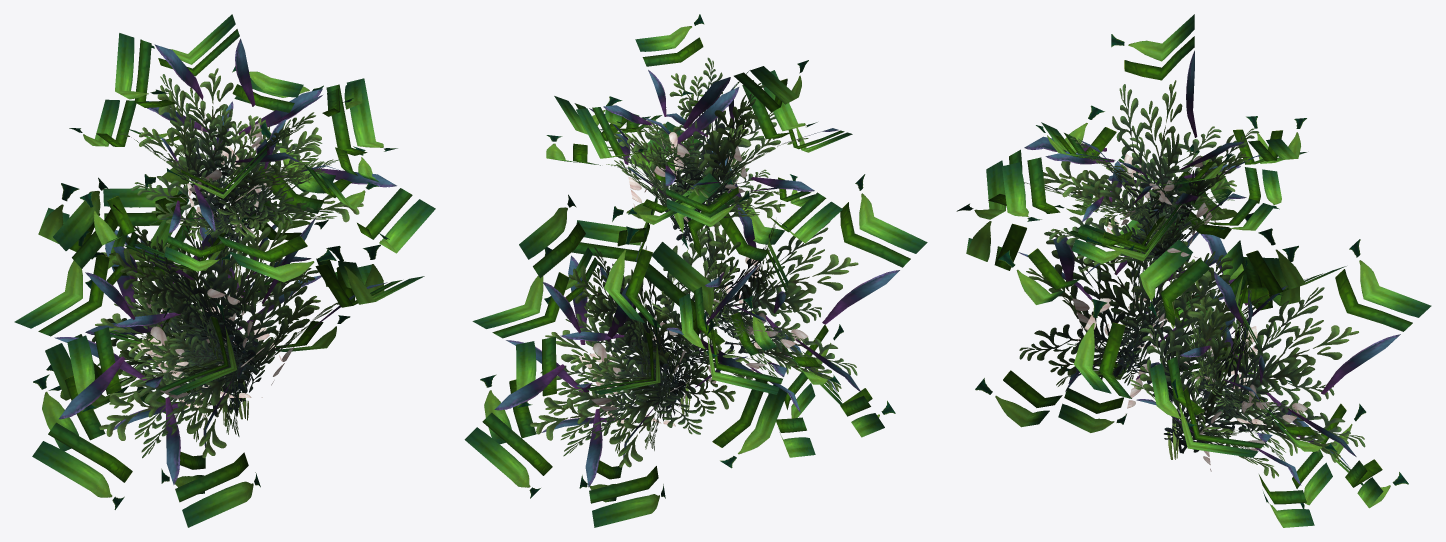
Rendered from S_Tree_Green050_A1.FBX.
The picture shows the model from 3 angles, left to right: view 1: azimuth 30°, elevation 25°; view 2: azimuth 150°, elevation 25°; view 3: azimuth 270°, elevation 25°; orthographic projection. The views are drawn at different scales.
Parts seen in each view (by area): view 1: S_Tree_Green050_A1; view 2: S_Tree_Green050_A1; view 3: S_Tree_Green050_A1.
Part boxes in pixels (bbox=[...]): S_Tree_Green050_A1: bbox=[14, 14, 435, 527]; S_Tree_Green050_A1: bbox=[464, 14, 927, 527]; S_Tree_Green050_A1: bbox=[956, 14, 1431, 527].
Size of the model in its own units: 744 by 821 by 810.
